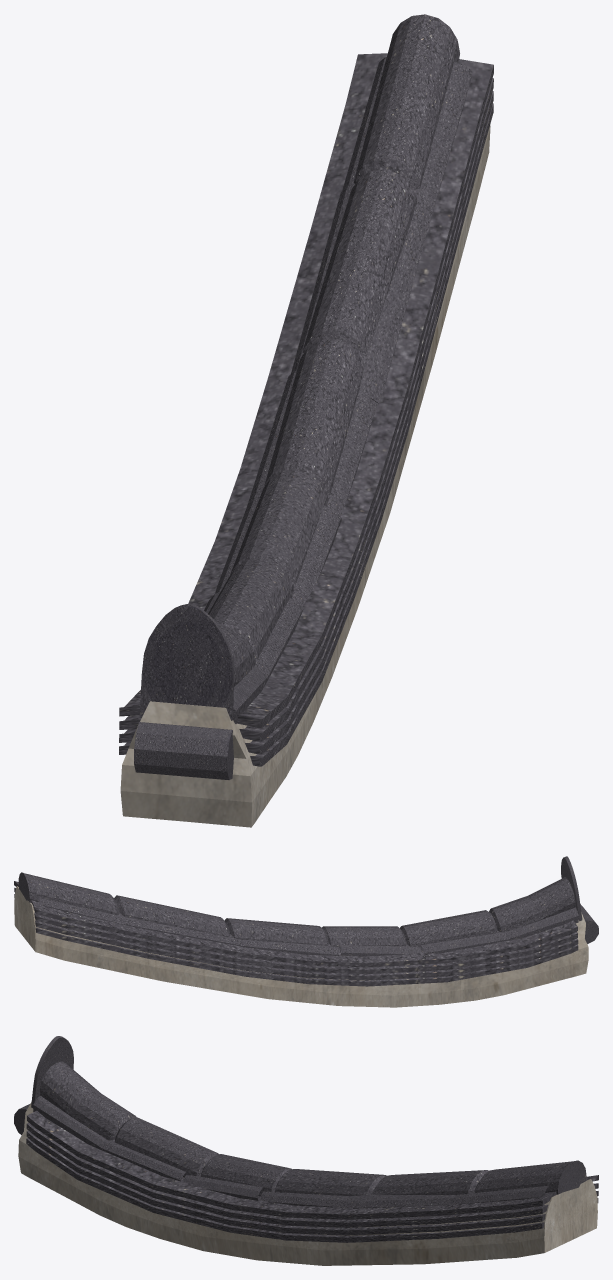
File: SM_R_BeamRoof_12.fbx
3 views of the same model, one above another, from view 1: azimuth 30°, elevation 25°; view 2: azimuth 150°, elevation 25°; view 3: azimuth 270°, elevation 25° (orthographic). The views are drawn at different scales.
Visible parts, largest first — view 1: SM_R_BeamRoof_12; view 2: SM_R_BeamRoof_12; view 3: SM_R_BeamRoof_12.
Part boxes in pixels (box(x1,y1,x2,y2)): SM_R_BeamRoof_12: box(119, 14, 493, 827); SM_R_BeamRoof_12: box(14, 856, 598, 1007); SM_R_BeamRoof_12: box(14, 1036, 598, 1265).
Bounding box in the file's own units: 236 × 258 × 104.
2 materials, 2 textured.
